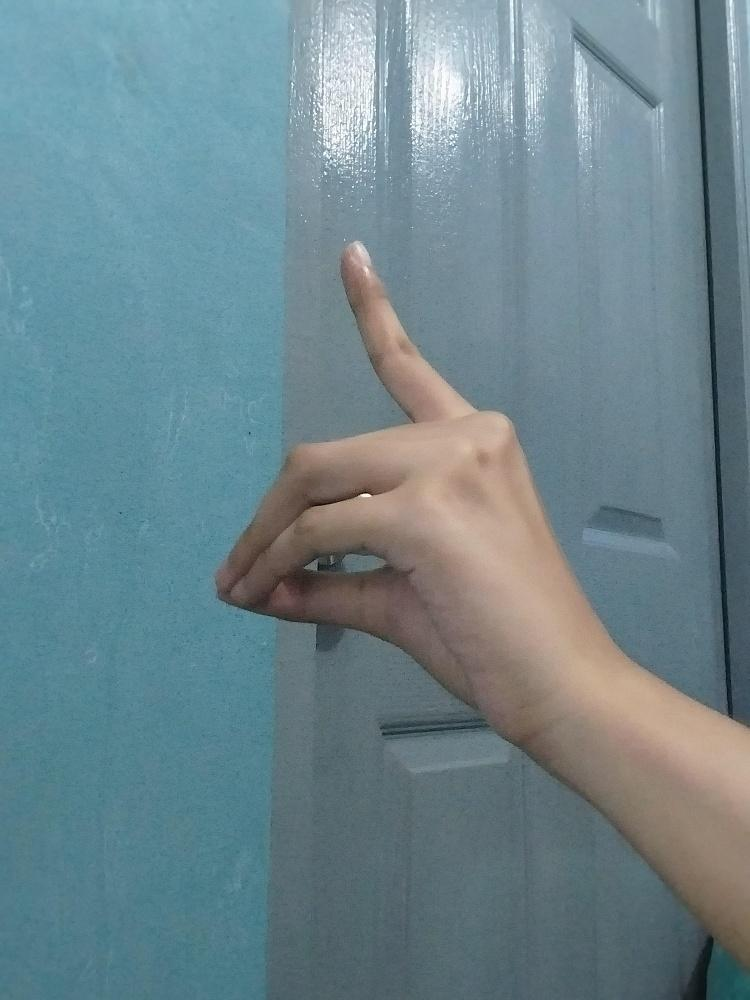d: (221, 235, 547, 713)
